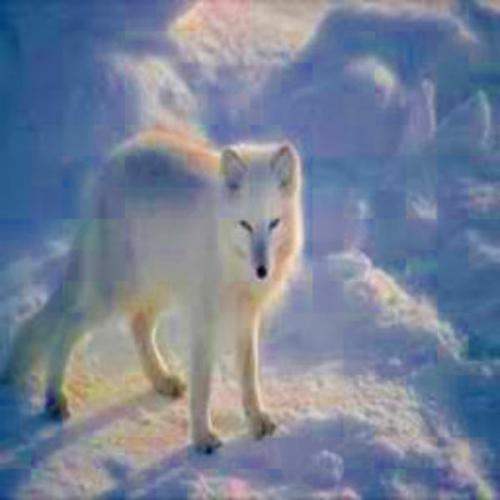arctic_fox-endangered: (1, 129, 303, 457)
